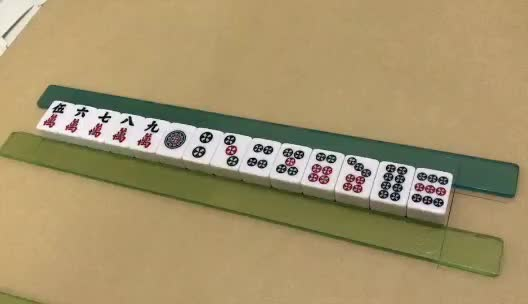1p: (163, 128, 189, 149)
2p: (191, 131, 214, 158)
3p: (223, 135, 239, 167)
4p: (248, 144, 274, 168)
5m: (42, 103, 66, 130)
5p: (276, 147, 305, 177)
6m: (64, 106, 88, 133)
6p: (305, 152, 336, 186)
7m: (89, 111, 111, 139)
7p: (341, 155, 371, 194)
8m: (114, 116, 135, 143)
8p: (377, 163, 407, 203)
9m: (137, 121, 160, 149)
9p: (411, 171, 449, 209)
